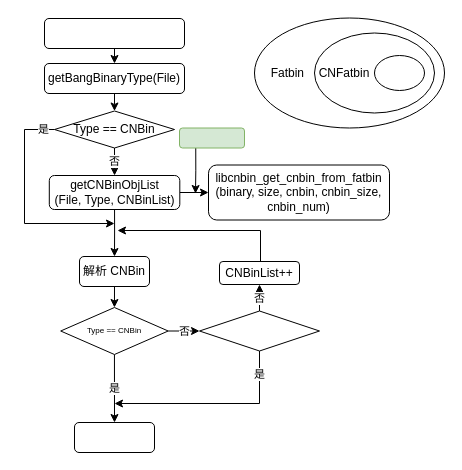
The diagram is 462 pixels wide and 470 high, and some of its shapes have lost their labels. The centre of each missing label's shape, as x and y in pixels:
"CNBin" belongs at pixel 399 72.
"CNBinList.end()" belongs at pixel 259 330.
"END" belongs at pixel 114 437.
"Fatbin/CNFatbin/CNBin" belongs at pixel 114 33.
"libcnbin.so" belongs at pixel 211 137.
